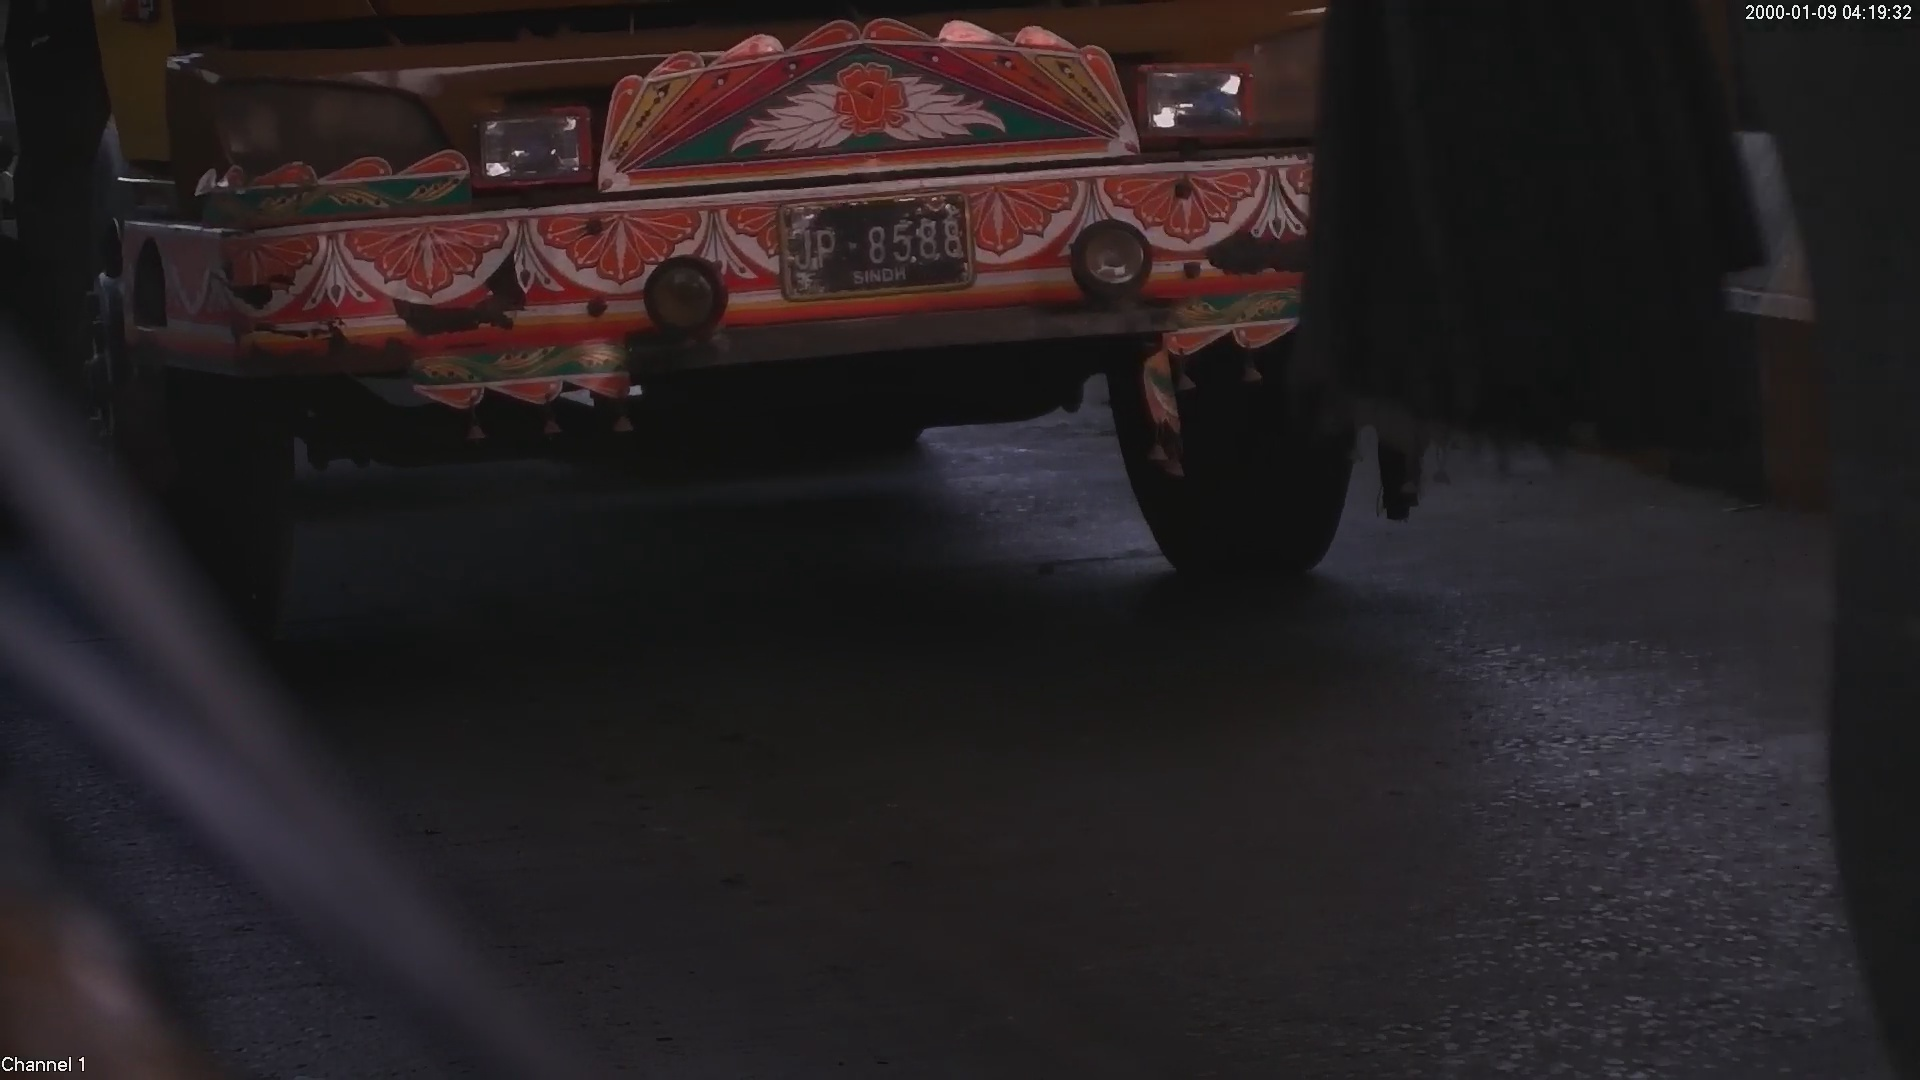Number_Plate: (756, 186, 991, 305)
